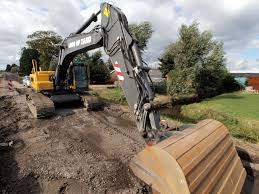excavator: (26, 5, 251, 194)
